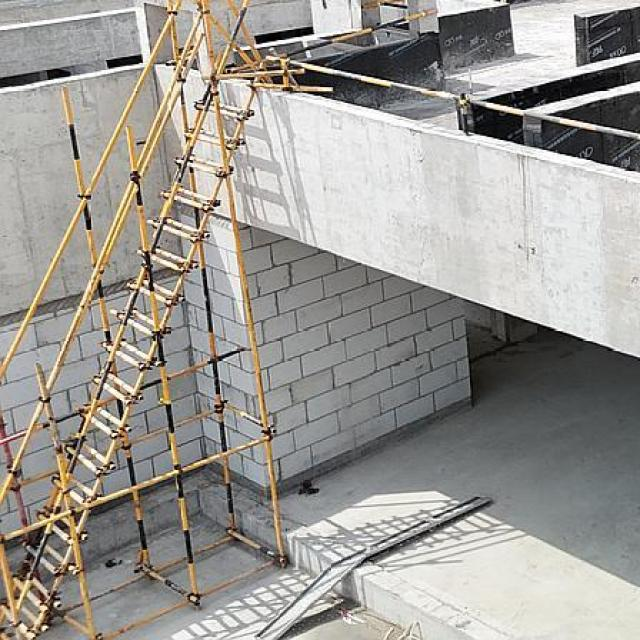edge_guardrail: (264, 54, 640, 143), (224, 7, 437, 74), (379, 1, 408, 9)
